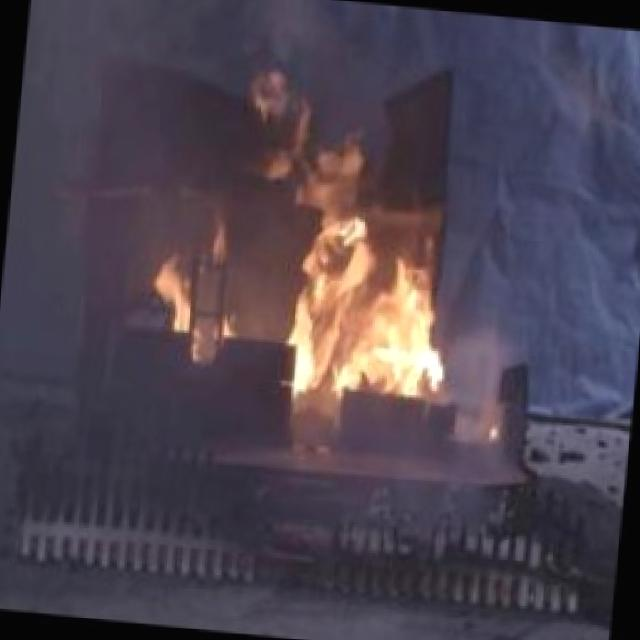fire: (225, 60, 484, 442)
